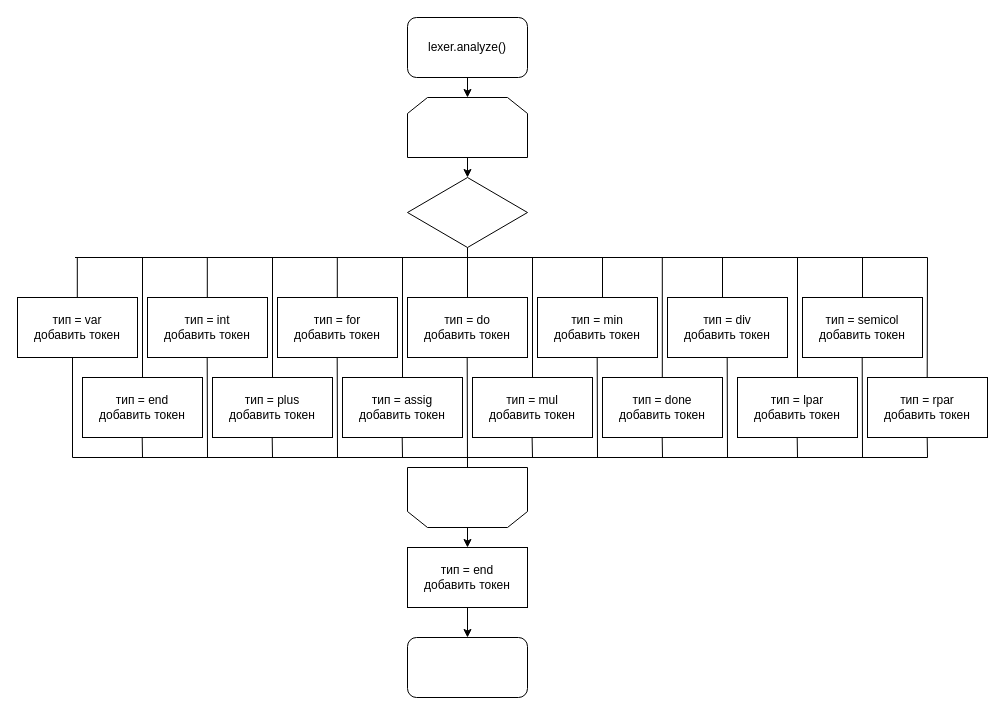
Some shapes in this 1005 by 715 pixel diagram are drawn without their labels. The shapes that lost their labels are listed below. From the top down, each one's centre as x and y in pixels, then its label:
pixel 467 127: токен = токены[0]
pixel 467 212: токен
pixel 467 667: конец analyze
